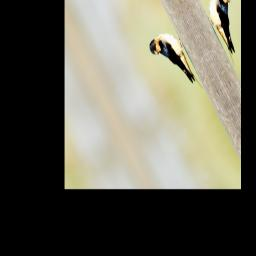Swallow: (146, 23, 207, 108)
